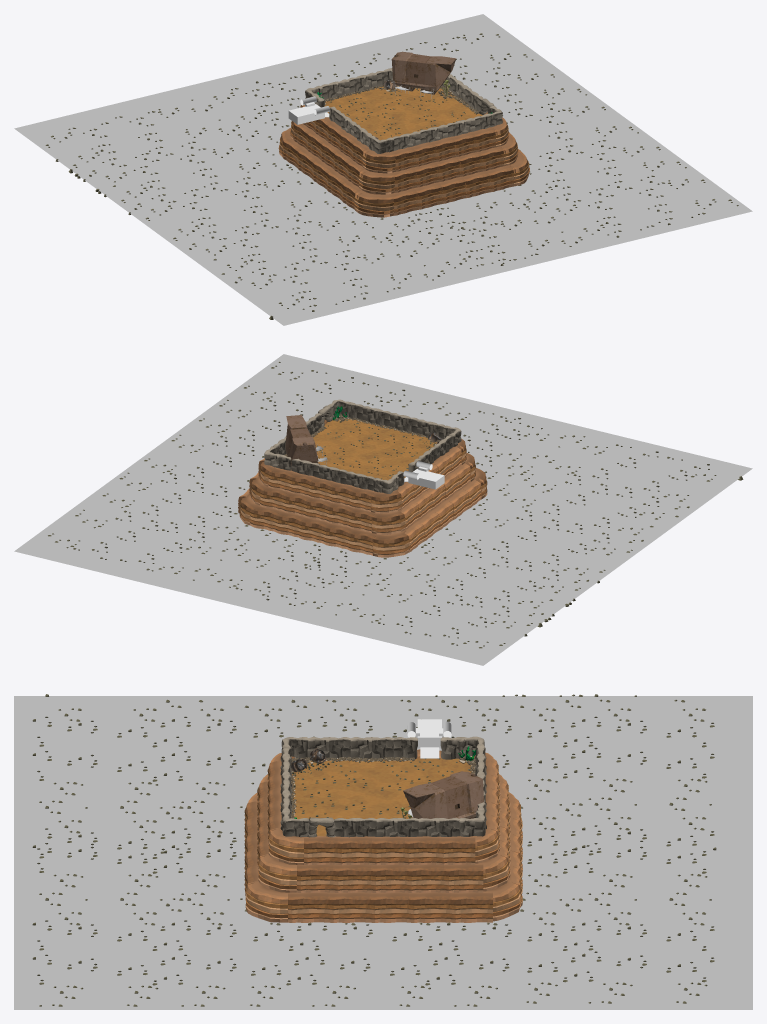
File: Initial.fbx
3 renders of one model, top to bottom at view 1: azimuth 30°, elevation 25°; view 2: azimuth 150°, elevation 25°; view 3: azimuth 270°, elevation 25°, orthographic. The views are drawn at different scales.
Visible parts, largest first — view 1: LowerFloor, OuterWall, SmallStones, UpperFloor, StoneWalls, JawaShip, Ship; view 2: LowerFloor, OuterWall, SmallStones, StoneWalls, UpperFloor, JawaShip, Ship; view 3: LowerFloor, OuterWall, SmallStones, StoneWalls, UpperFloor, JawaShip, Ship, Ruble_ruins.
Part boxes in pixels (x1=…): LowerFloor: x1=14, y1=14, x2=752, y2=325; OuterWall: x1=278, y1=105, x2=529, y2=217; SmallStones: x1=45, y1=33, x2=738, y2=319; UpperFloor: x1=324, y1=86, x2=482, y2=140; StoneWalls: x1=305, y1=68, x2=502, y2=153; JawaShip: x1=391, y1=51, x2=456, y2=94; Ship: x1=288, y1=96, x2=329, y2=124; LowerFloor: x1=14, y1=354, x2=752, y2=665; OuterWall: x1=238, y1=419, x2=487, y2=557; SmallStones: x1=48, y1=361, x2=743, y2=648; StoneWalls: x1=264, y1=399, x2=461, y2=493; UpperFloor: x1=313, y1=418, x2=437, y2=480; JawaShip: x1=285, y1=415, x2=318, y2=465; Ship: x1=403, y1=461, x2=444, y2=489; LowerFloor: x1=14, y1=696, x2=752, y2=1009; OuterWall: x1=244, y1=749, x2=522, y2=922; SmallStones: x1=32, y1=694, x2=716, y2=1006; StoneWalls: x1=280, y1=736, x2=486, y2=837; UpperFloor: x1=292, y1=758, x2=473, y2=836; JawaShip: x1=403, y1=771, x2=483, y2=818; Ship: x1=407, y1=719, x2=451, y2=758; Ruble_ruins: x1=291, y1=756, x2=476, y2=818.
Size of the model in its own units: 5167 by 880 by 5118.
